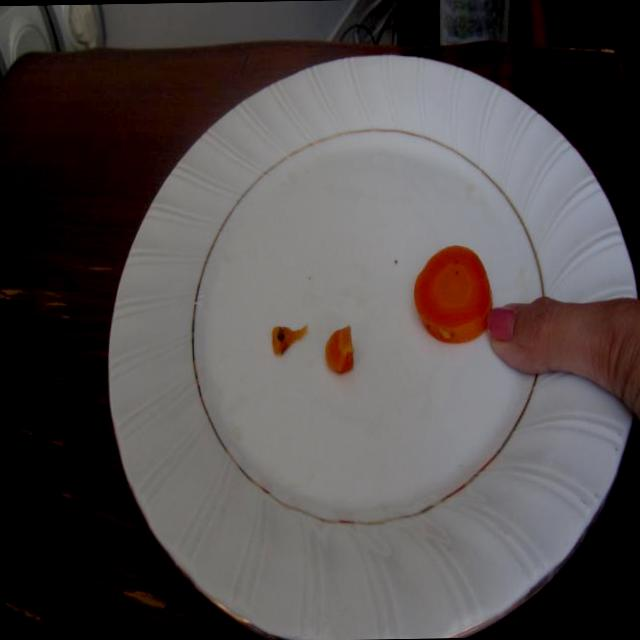Carrot: (408, 237, 496, 357)
Finger: (484, 293, 568, 386)
